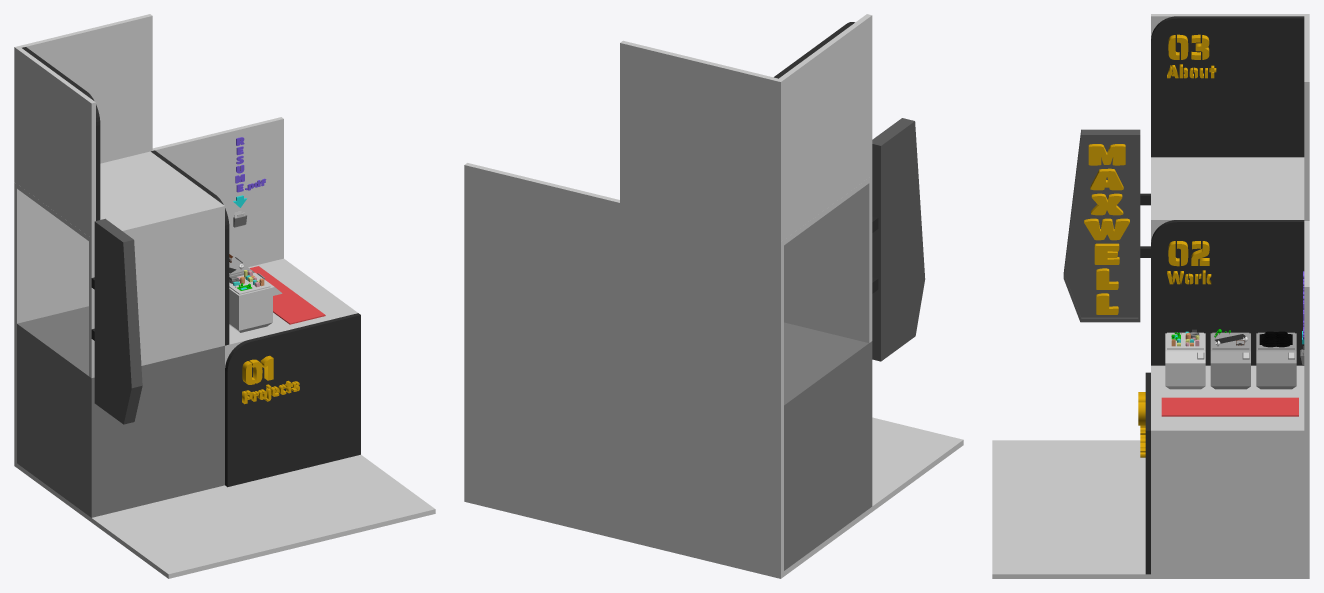
File: tower.glb
3 renders of one model, left to right at view 1: azimuth 30°, elevation 25°; view 2: azimuth 150°, elevation 25°; view 3: azimuth 270°, elevation 25°, orthographic. The views are drawn at different scales.
Visible parts, largest first — view 1: base_01_1, base_floor, 01_bg, base_backwall, base_02_1, base_03_2, base_03_1, billboard_main, base_03, base_01, Terragraph_Display, 02_carpet (+5 smaller); view 2: base_backwall, base_03_1, base_01_1, base_03_2, billboard_main, base_02_1, base_floor, base_03; view 3: base_01, base_floor, 03_bg, 02_bg, billboard_main, base_03, billboard_text, 02_carpet, Terrazed_Display.002, base_backwall, Terragraph_Display, Rayban_Display.001 (+7 smaller).
Boxes of the visible parts, left/top/right/bottom form: base_01_1: left=17, top=306, right=224, bottom=517; base_floor: left=14, top=454, right=435, bottom=578; 01_bg: left=225, top=313, right=360, bottom=487; base_backwall: left=14, top=117, right=283, bottom=462; base_02_1: left=89, top=211, right=220, bottom=378; base_03_2: left=17, top=48, right=95, bottom=238; base_03_1: left=14, top=14, right=152, bottom=183; billboard_main: left=94, top=218, right=142, bottom=424; base_03: left=14, top=151, right=224, bottom=242; base_01: left=225, top=258, right=357, bottom=367; Terragraph_Display: left=229, top=273, right=282, bottom=332; 02_carpet: left=250, top=266, right=325, bottom=324; base_backwall: left=464, top=163, right=783, bottom=573; base_03_1: left=620, top=40, right=783, bottom=241; base_01_1: left=784, top=322, right=872, bottom=570; base_03_2: left=779, top=14, right=872, bottom=239; billboard_main: left=872, top=118, right=925, bottom=361; base_02_1: left=784, top=181, right=872, bottom=342; base_floor: left=464, top=417, right=963, bottom=578; base_03: left=622, top=175, right=872, bottom=247; base_01: left=1151, top=365, right=1304, bottom=574; base_floor: left=992, top=440, right=1309, bottom=578; 03_bg: left=1151, top=16, right=1304, bottom=157; 02_bg: left=1151, top=220, right=1304, bottom=365; billboard_main: left=1063, top=129, right=1140, bottom=322; base_03: left=1151, top=157, right=1304, bottom=224; billboard_text: left=1084, top=144, right=1129, bottom=314; 02_carpet: left=1161, top=397, right=1298, bottom=416; Terrazed_Display.002: left=1210, top=332, right=1250, bottom=389; base_backwall: left=1304, top=221, right=1309, bottom=574; Terragraph_Display: left=1165, top=332, right=1205, bottom=389; Rayban_Display.001: left=1256, top=332, right=1296, bottom=389.
Size of the model in its own units: 121 by 180 by 120.
